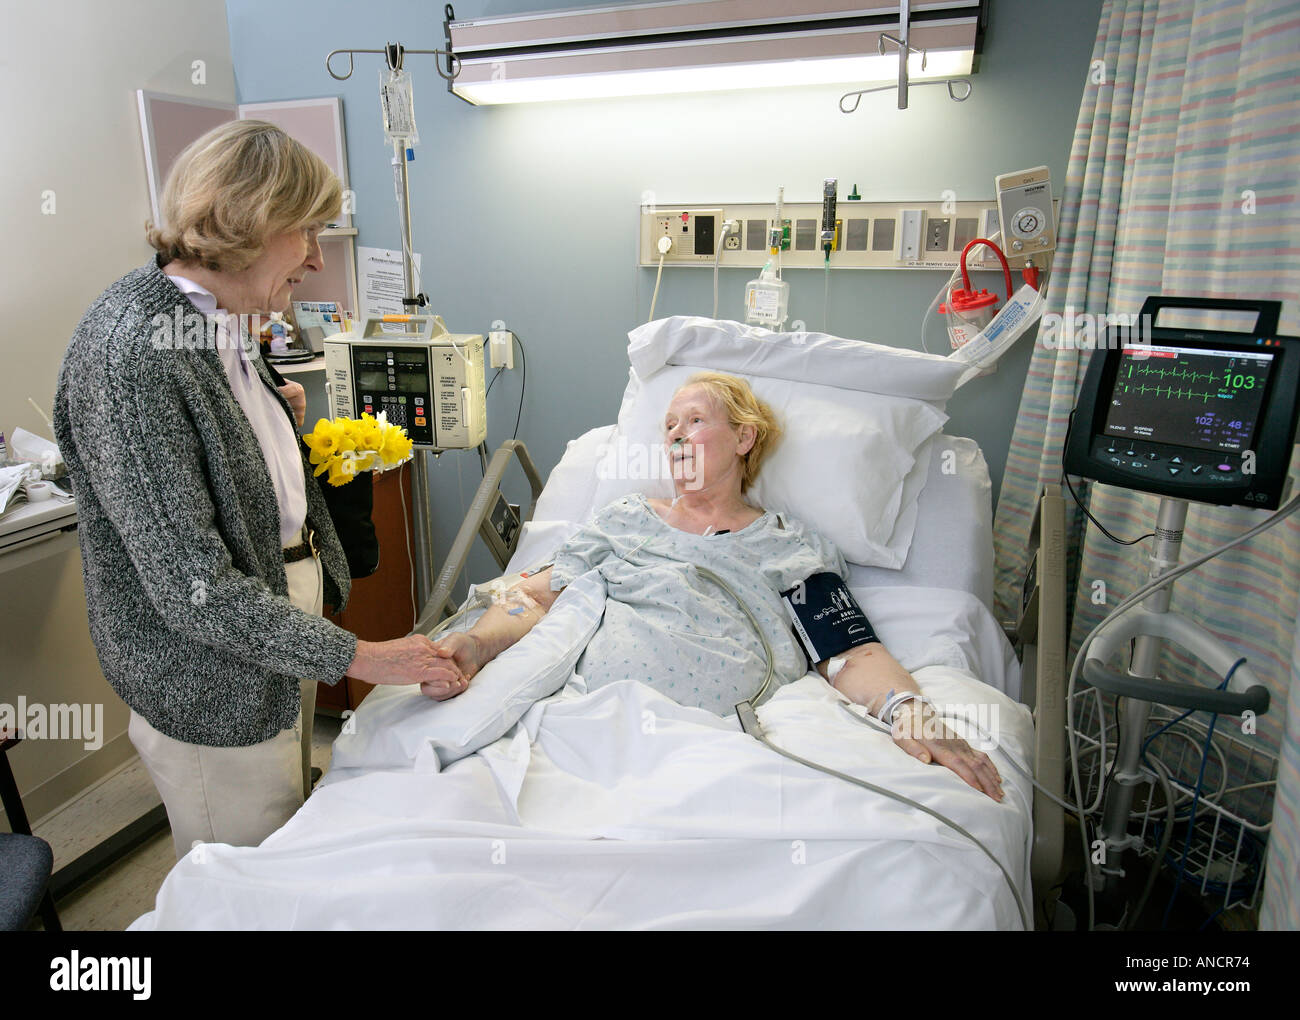visitor: (40, 72, 475, 856)
